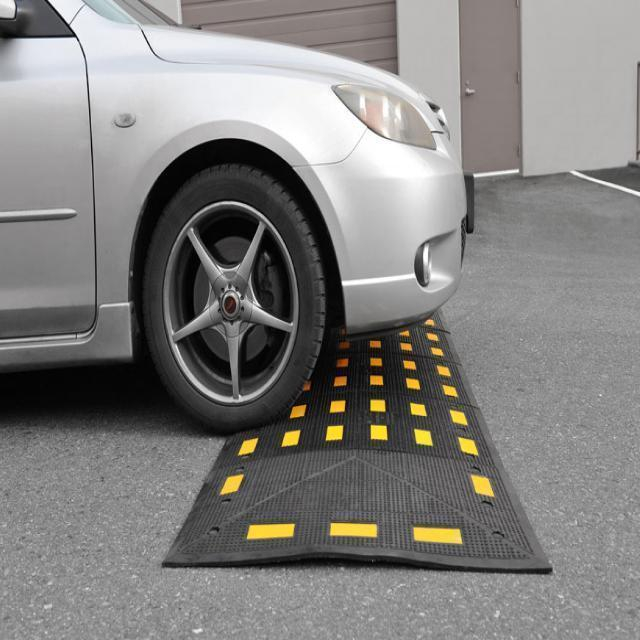speedbreaker: (181, 298, 521, 566)
